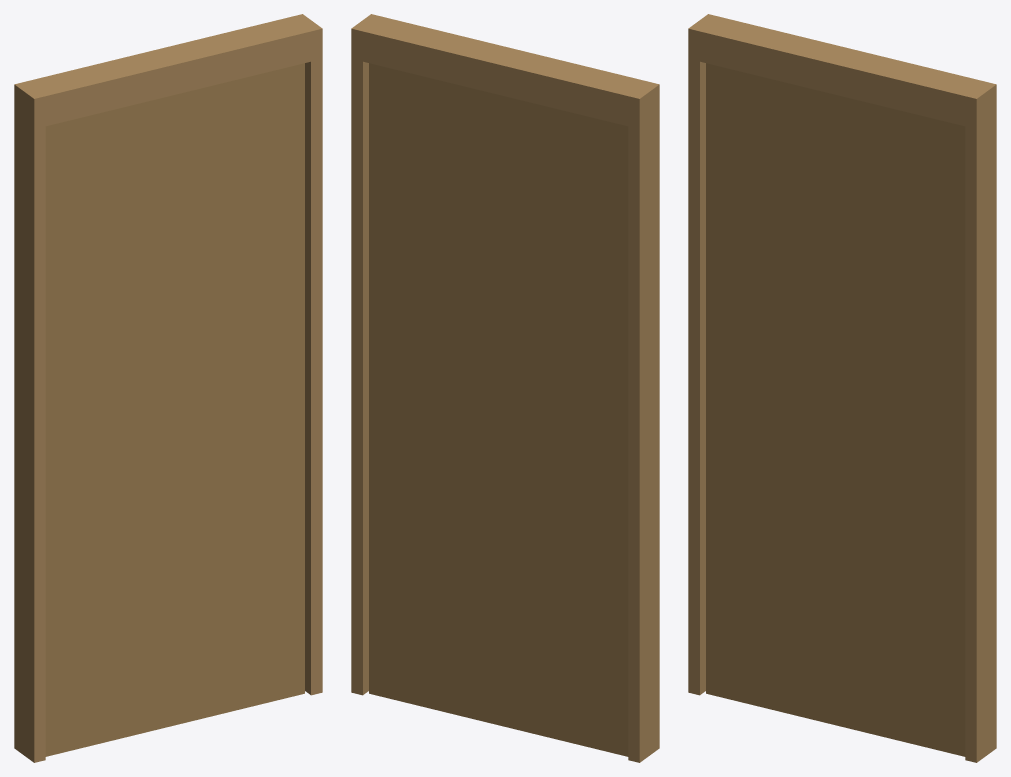
File: env_door_wood_01.glb
The picture shows the model from 3 angles, left to right: view 1: azimuth 30°, elevation 25°; view 2: azimuth 150°, elevation 25°; view 3: azimuth 330°, elevation 25°; orthographic projection.
Parts seen in each view (by area): view 1: env_door_wood_01; view 2: env_door_wood_01; view 3: env_door_wood_01.
Part boxes in pixels (x1,y1,x2,y2): env_door_wood_01: (14,14,322,762); env_door_wood_01: (351,14,659,762); env_door_wood_01: (688,14,996,762).
Bounding box in the file's own units: 1 × 2.2 × 0.12.
